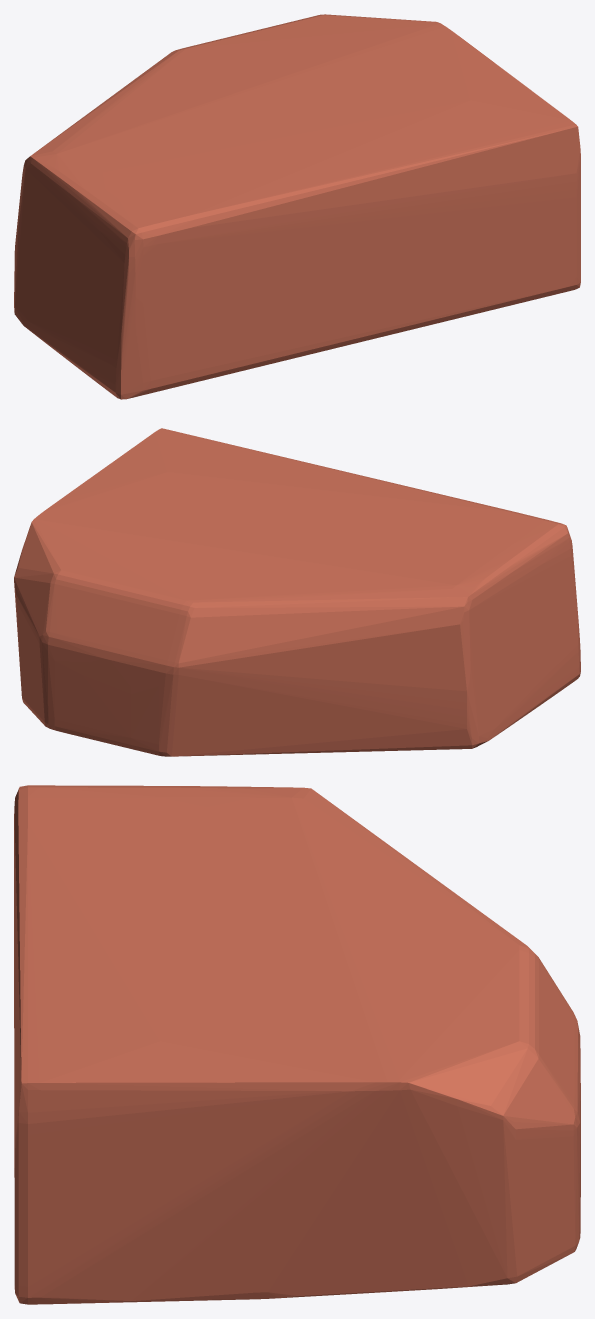
The picture shows the model from 3 angles, top to bottom: view 1: azimuth 30°, elevation 25°; view 2: azimuth 150°, elevation 25°; view 3: azimuth 270°, elevation 25°; orthographic projection. The views are drawn at different scales.
Bounding box in the file's own units: 0.1859 × 0.0639 × 0.1442.
